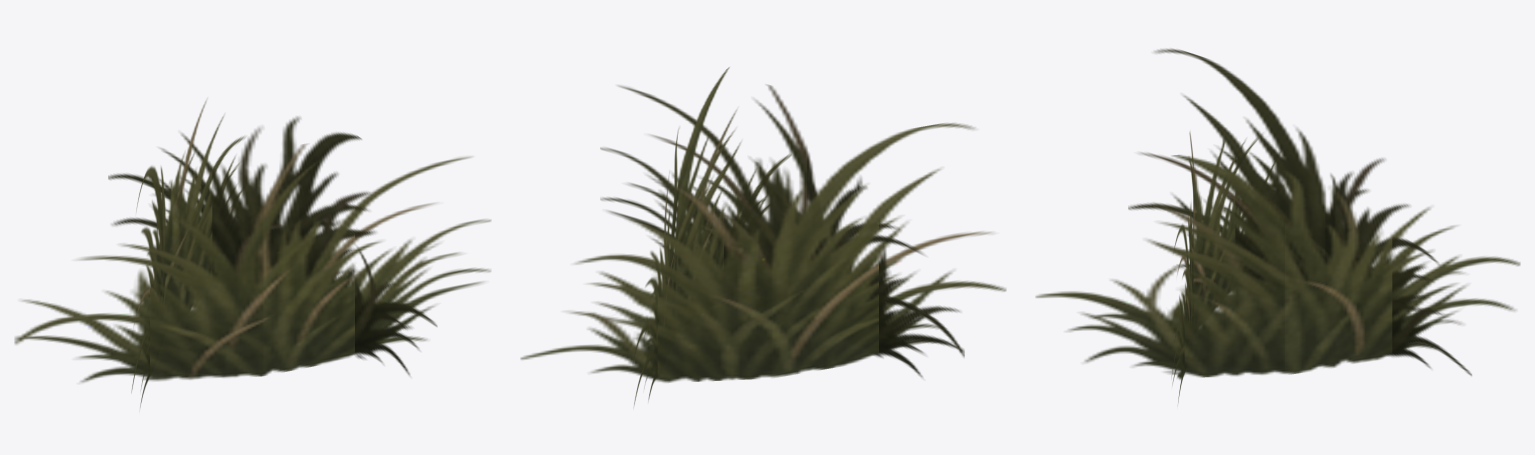
Rendered from source_5.glb.
3 views of the same model, side by side, from view 1: azimuth 30°, elevation 25°; view 2: azimuth 150°, elevation 25°; view 3: azimuth 270°, elevation 25° (orthographic).
Parts seen in each view (by area): view 1: woodland-grass-messy · evaluated preview mesh; view 2: woodland-grass-messy · evaluated preview mesh; view 3: woodland-grass-messy · evaluated preview mesh.
Part boxes in pixels (x1,y1,x2,y2): woodland-grass-messy · evaluated preview mesh: (14, 100, 490, 407); woodland-grass-messy · evaluated preview mesh: (520, 67, 1006, 405); woodland-grass-messy · evaluated preview mesh: (1036, 48, 1520, 402).
Bounding box in the file's own units: 2.04 × 1.05 × 2.06.
1 material, 1 textured.
